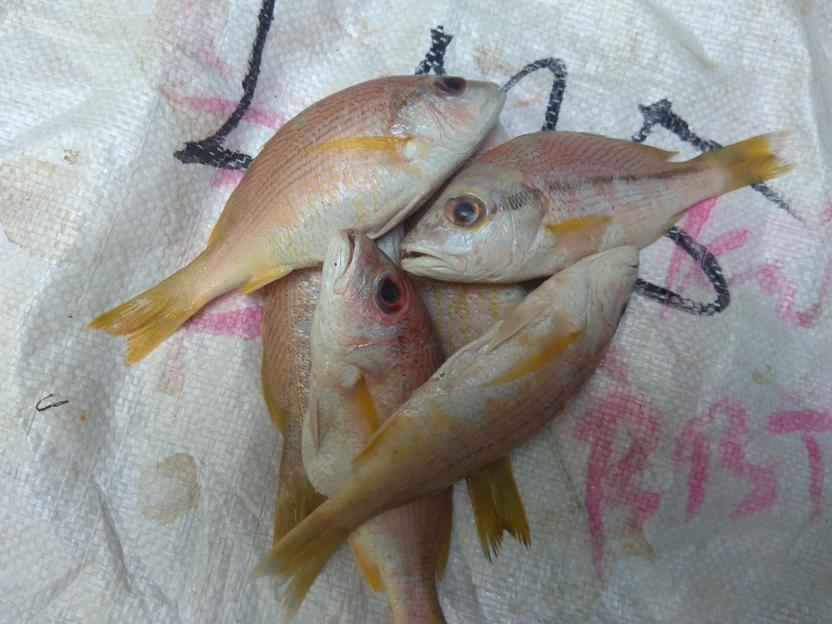Fish head: (308, 229, 426, 380), (399, 166, 548, 282), (393, 75, 502, 164), (575, 244, 639, 343)
Fish tail: (247, 500, 355, 620), (86, 263, 207, 365), (464, 456, 533, 566), (697, 130, 798, 202)
